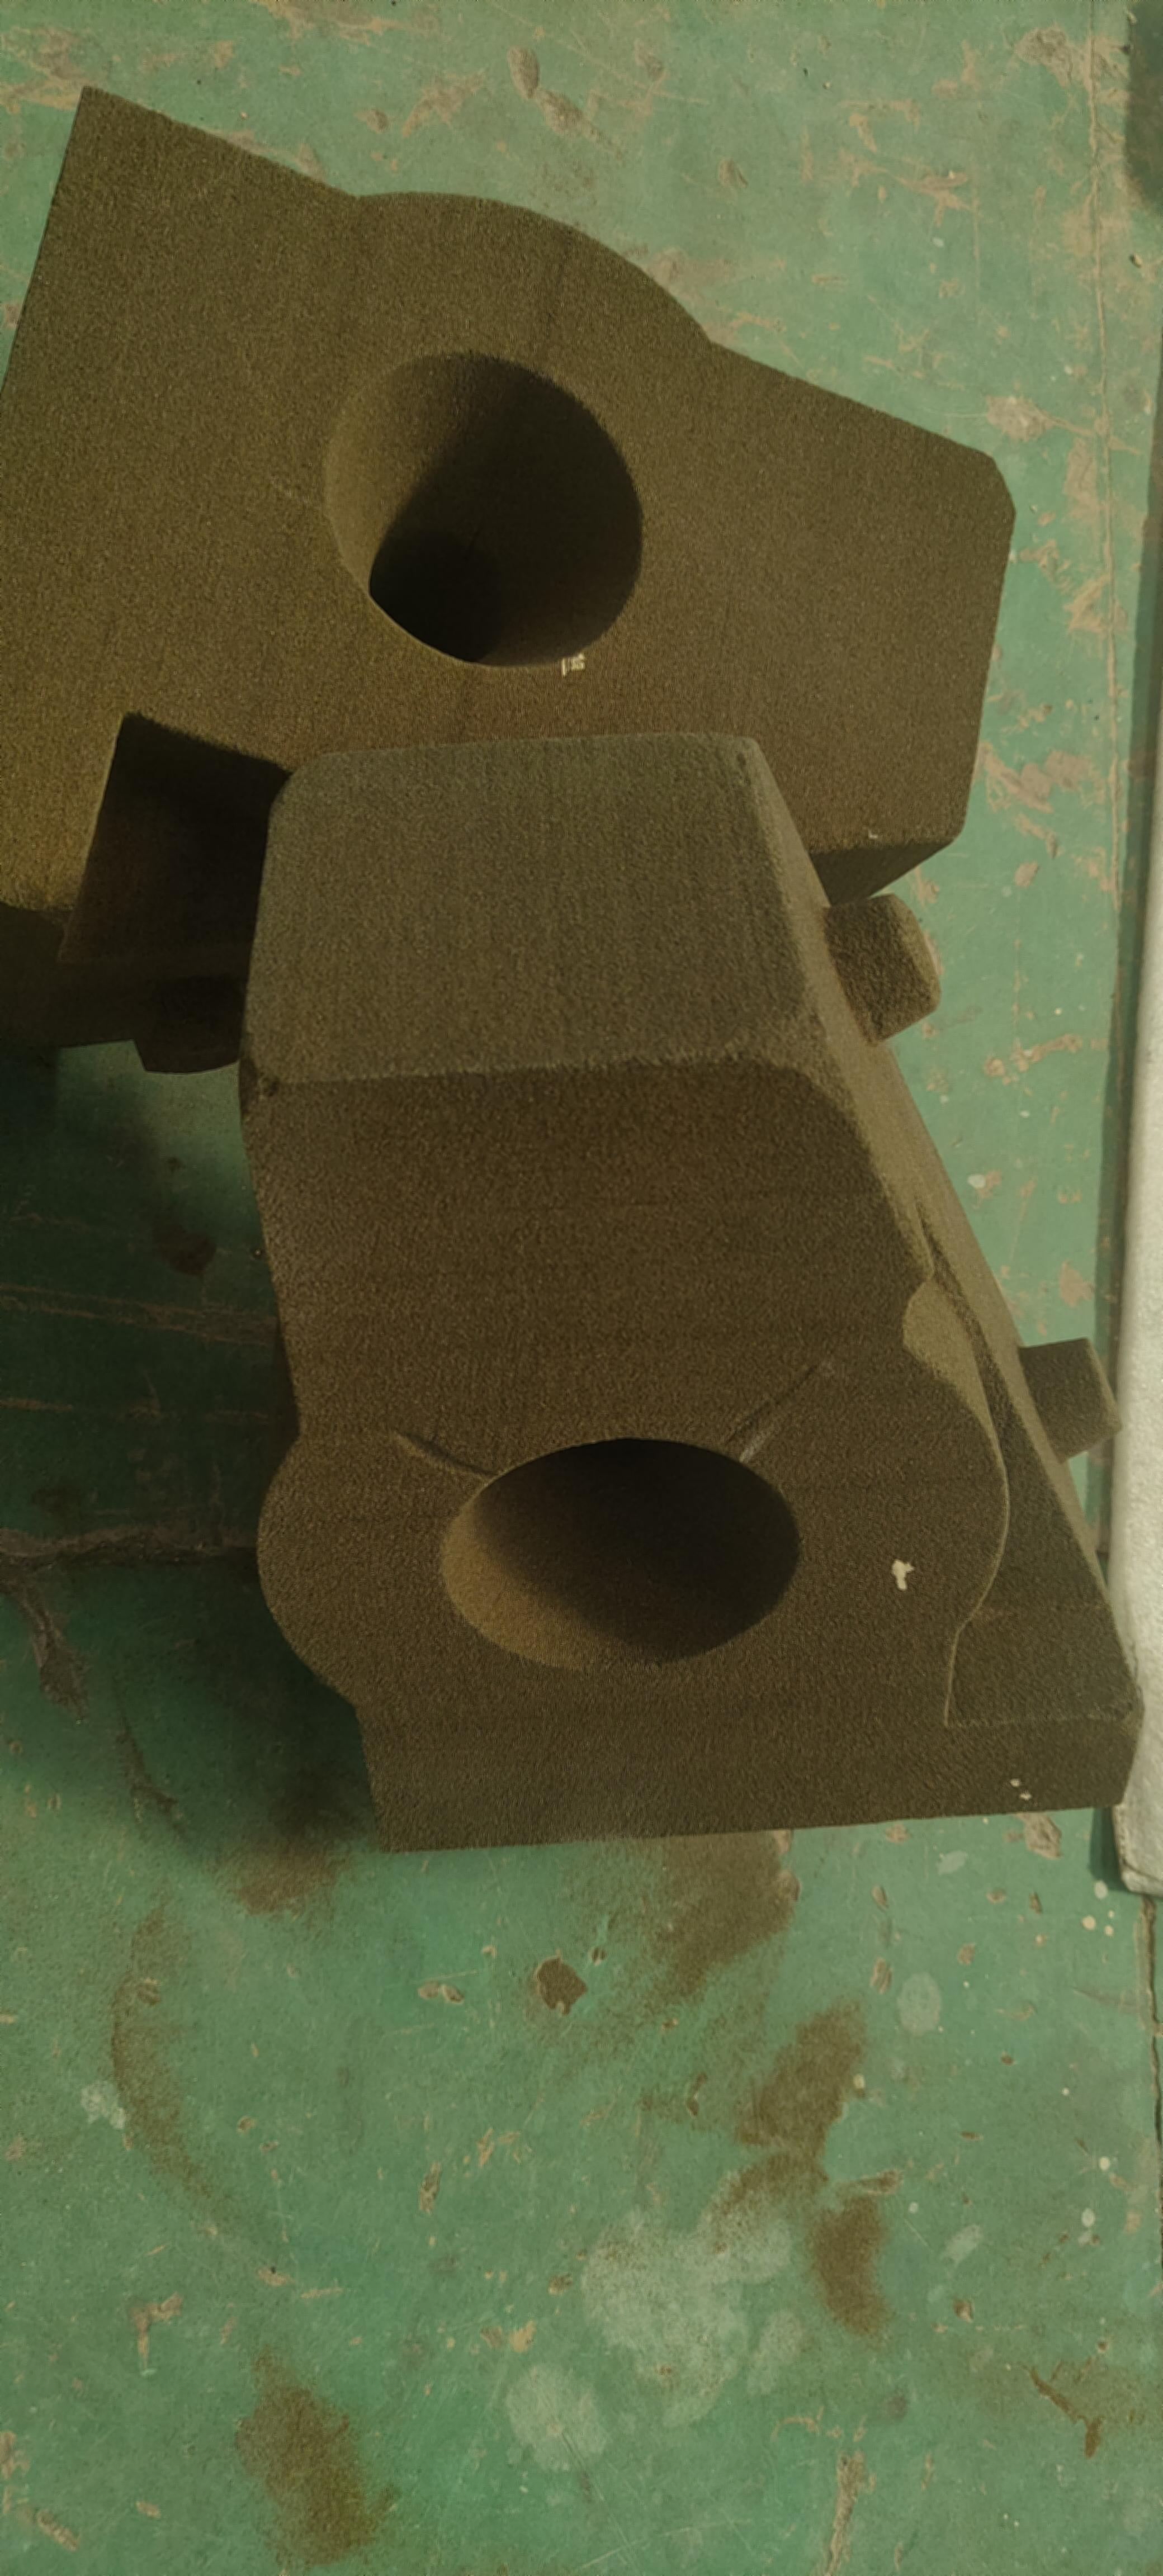pouring hole: (320, 350, 642, 667), (434, 1436, 802, 1677)
